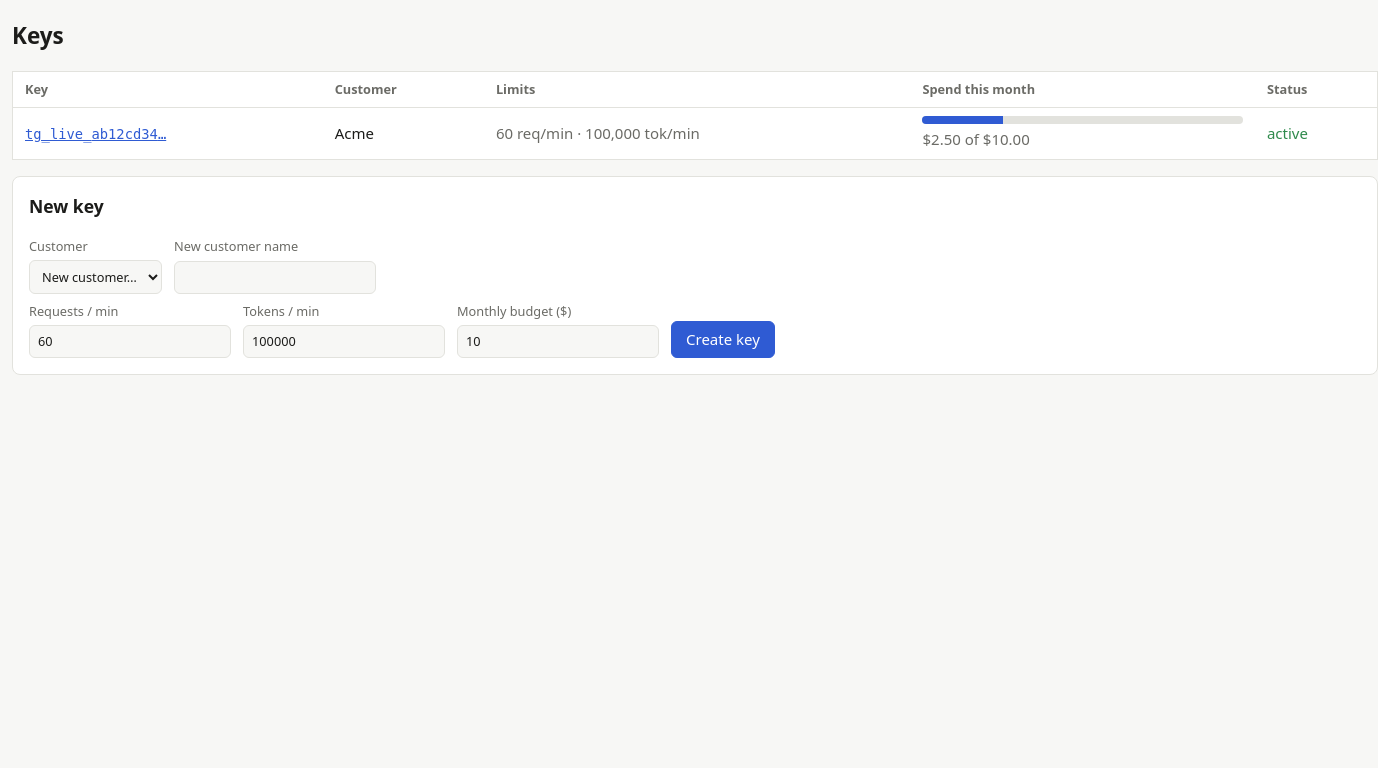
Scenario: KeysPage › creates a key for a new customer and shows it once
Expected: the text "tg_live_ab12cd34…" is shown, [25, 126, 166, 142]
Step 1. Type "Globex" into the field labelled "New customer name" → (275, 277), box [174, 261, 376, 294]
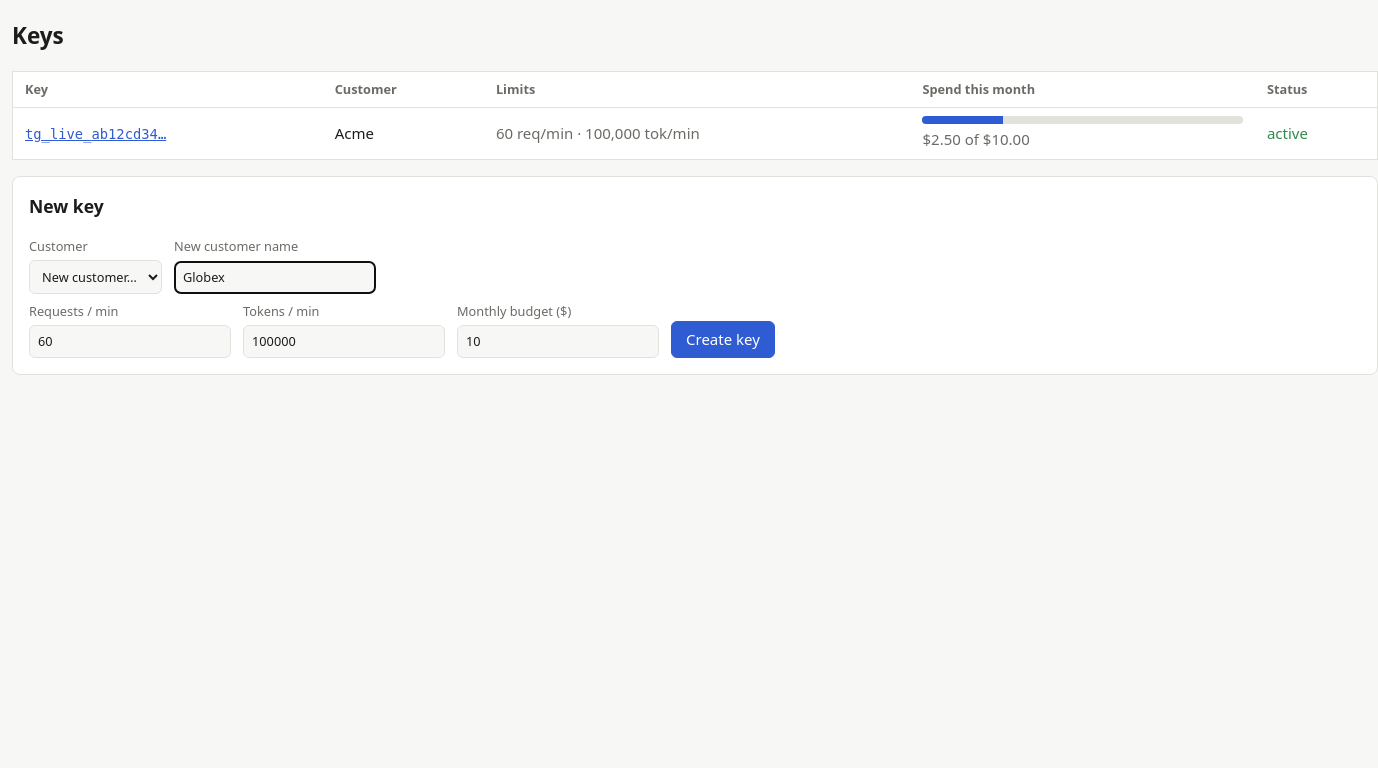
Step 2. Replace the text in the field labelled "Monthly budget ($)" with "0.10" → (558, 341), box [457, 325, 659, 358]
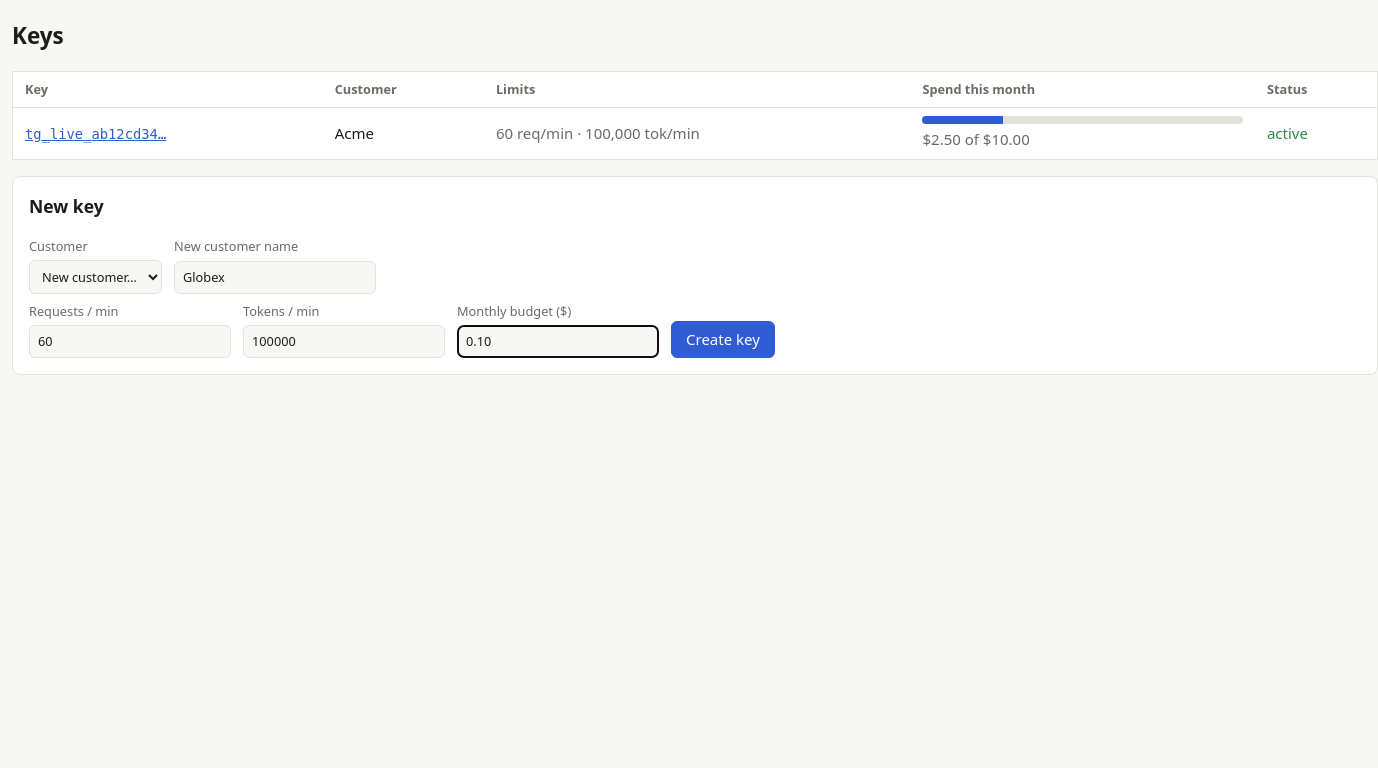
Step 3. Click the button "Create key" → (723, 340), box [671, 322, 775, 358]
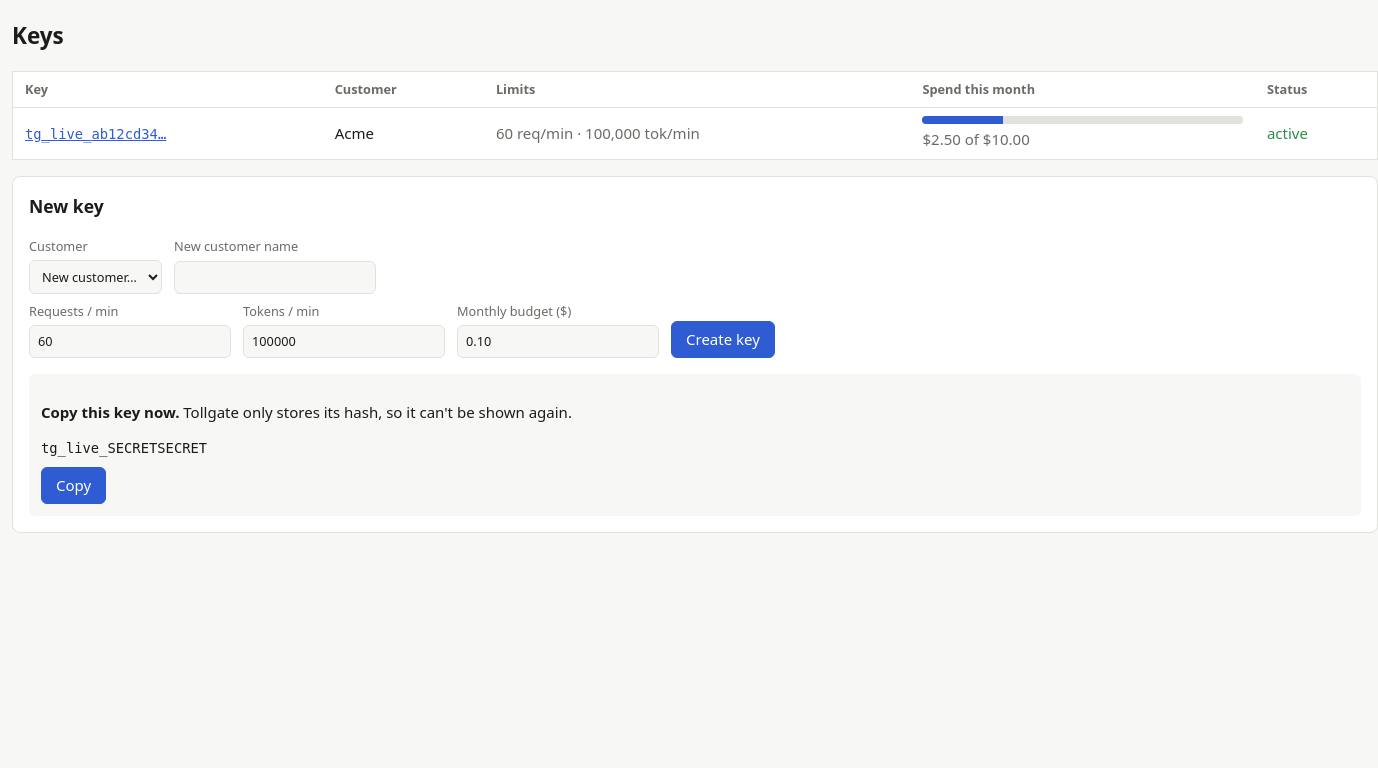
Expected: the text "tg_live_SECRETSECRET" is shown, [41, 440, 207, 456]
